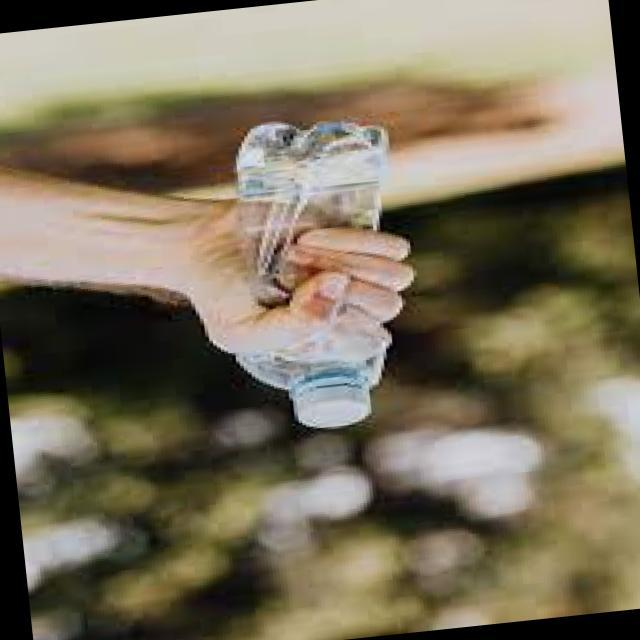defected: (185, 98, 446, 454)
